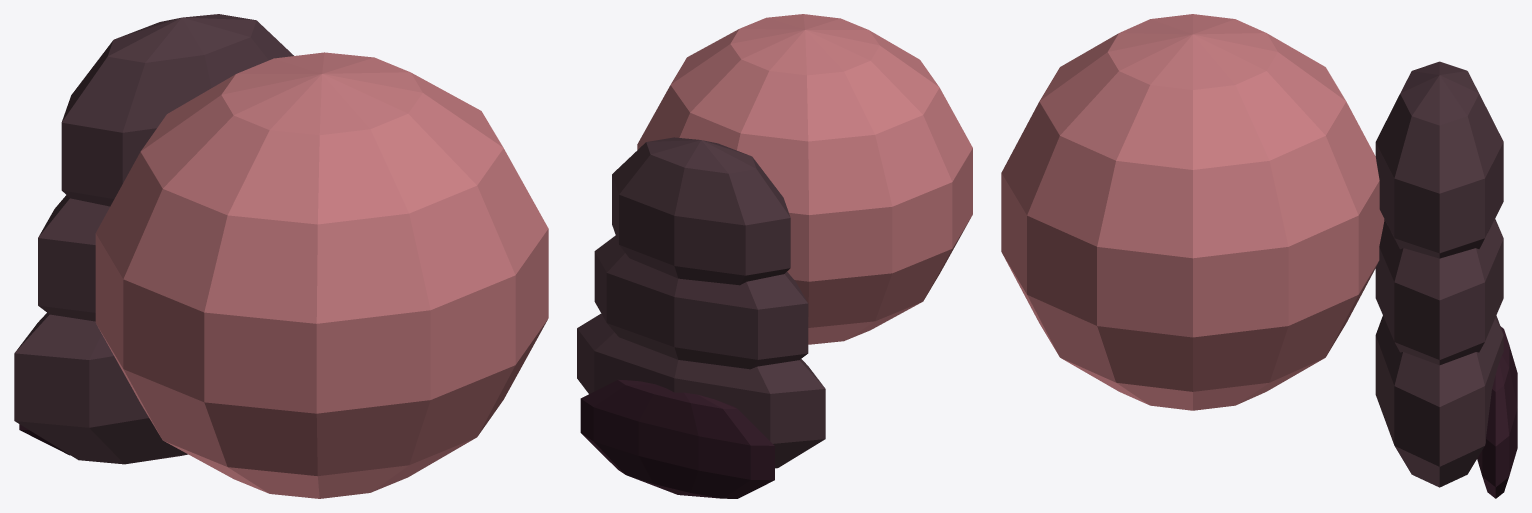
File: bulbfreak_head.obj
3 views of the same model, side by side, from view 1: azimuth 30°, elevation 25°; view 2: azimuth 150°, elevation 25°; view 3: azimuth 270°, elevation 25° (orthographic). The views are drawn at different scales.
Parts seen in each view (by area): view 1: bulbfreak_head; view 2: bulbfreak_head; view 3: bulbfreak_head.
Boxes of the visible parts, x1,y1,x2,y2 form: bulbfreak_head: (14, 14, 548, 498); bulbfreak_head: (577, 14, 972, 498); bulbfreak_head: (1001, 14, 1517, 498).
Size of the model in its own units: 0.7575 by 0.9135 by 0.966.
